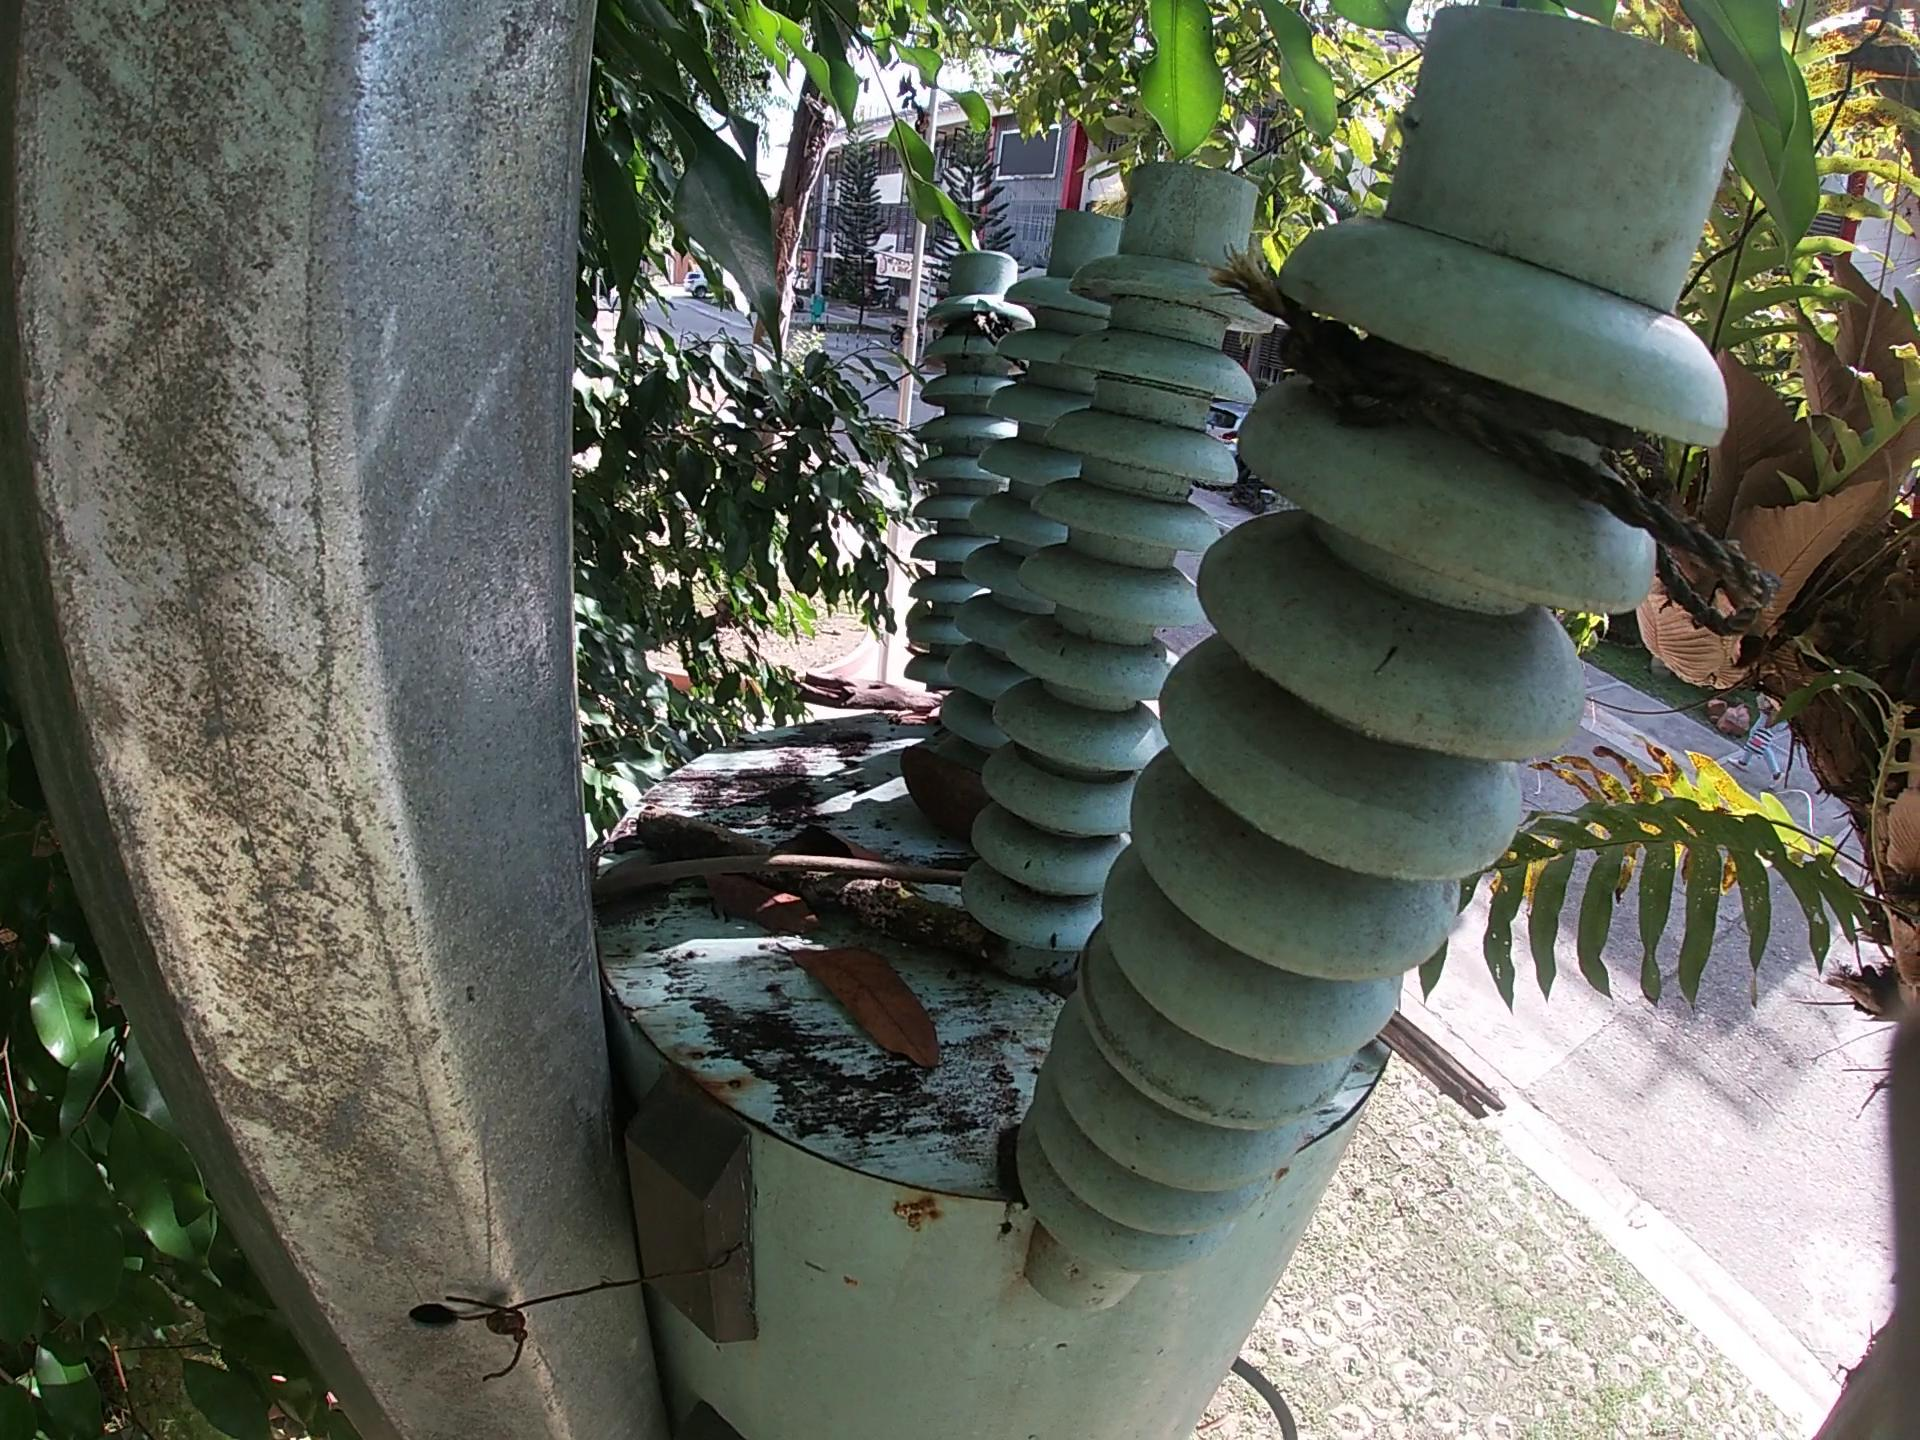leaf: (771, 935, 971, 1066), (697, 892, 838, 939)
mahogany fruit: (886, 750, 971, 836)
tree branch: (643, 818, 1049, 992), (1361, 1003, 1513, 1130), (591, 861, 975, 902), (765, 656, 951, 732)
